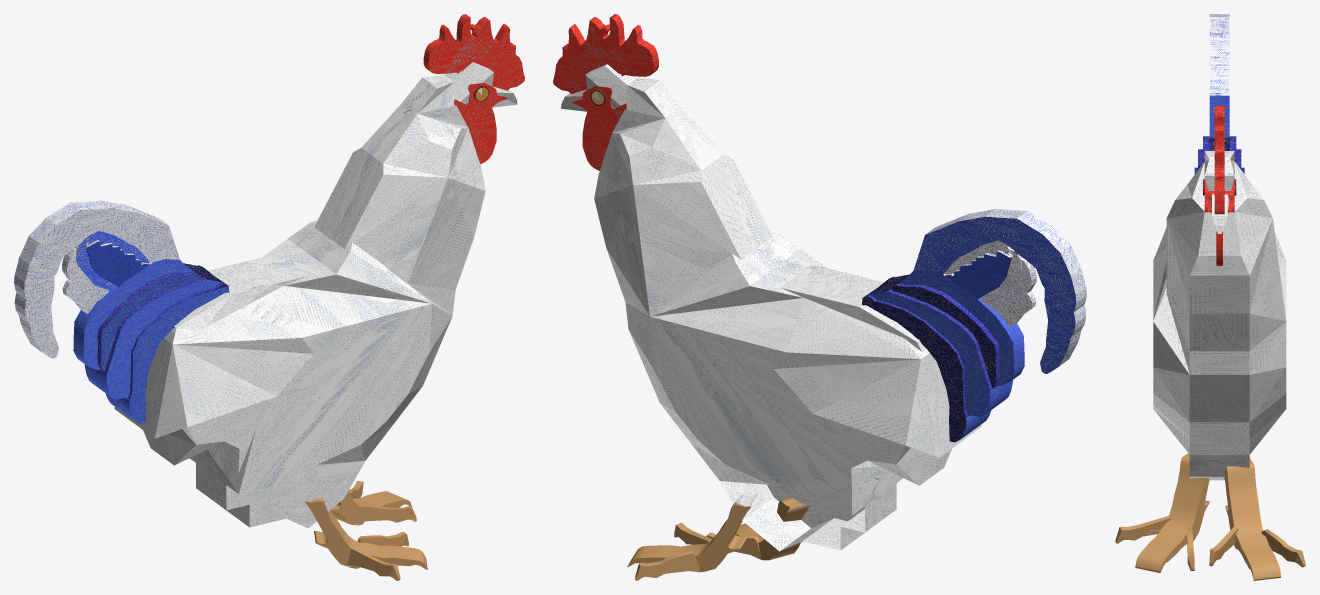
File: platform.dae
The picture shows the model from 3 angles, left to right: view 1: azimuth 30°, elevation 25°; view 2: azimuth 150°, elevation 25°; view 3: azimuth 270°, elevation 25°; orthographic projection. The views are drawn at different scales.
Visible parts, largest first — view 1: Component_13 (×12); view 2: Component_13 (×13); view 3: Component_13 (×5).
Part boxes in pixels (<box>): Component_13 (×12): <box>14,14,524,580</box>; Component_13 (×13): <box>553,14,1086,580</box>; Component_13 (×5): <box>1115,14,1305,580</box>.
Size of the model in its own units: 136 by 45.06 by 129.
